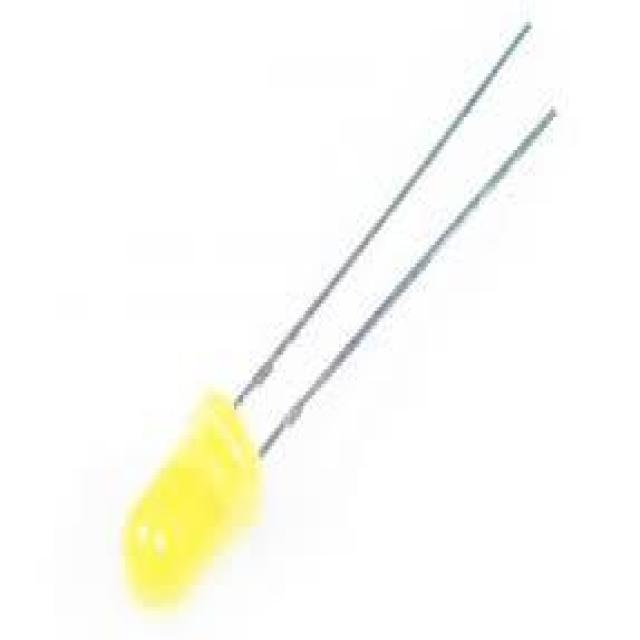Led: (125, 24, 553, 604)
